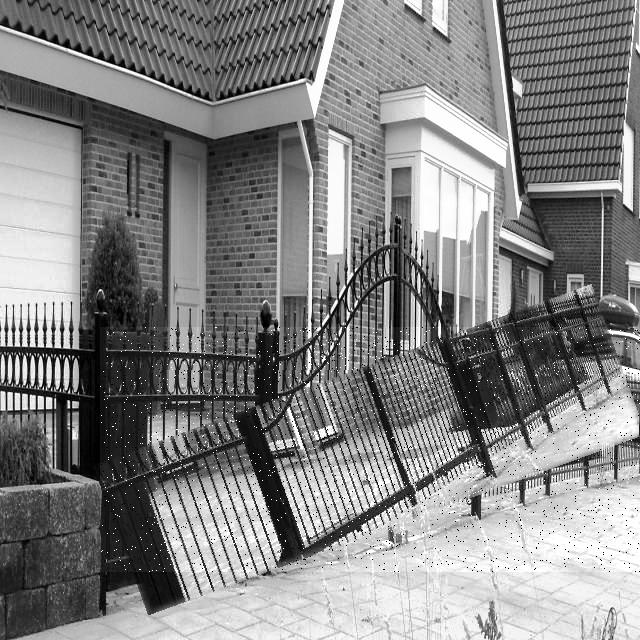fences: (100, 327, 640, 572)
